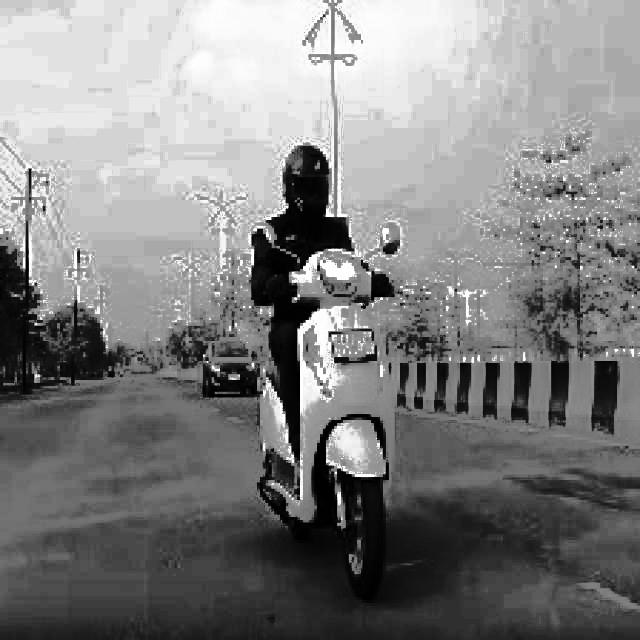Bike: (248, 249, 396, 589)
